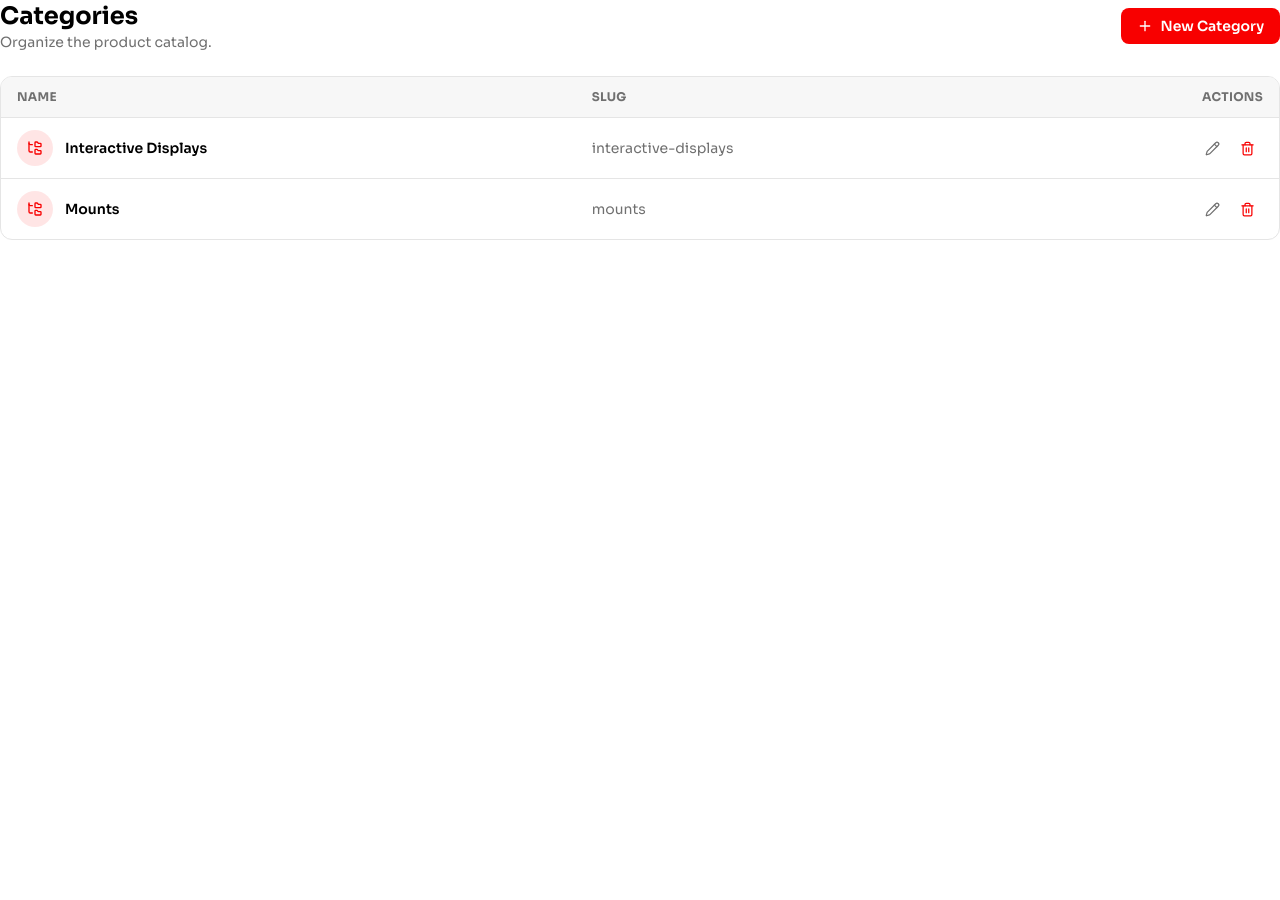
Test: Admin Categories › shows the backend FK protection message in the dialog when deletion fails with 422
The image size is (1280, 900).
Expected: the text "Mounts" is shown, [65,199,120,219]
Click the 2nd button titled "Delete" at (1248, 209), box [1232,194,1263,224]
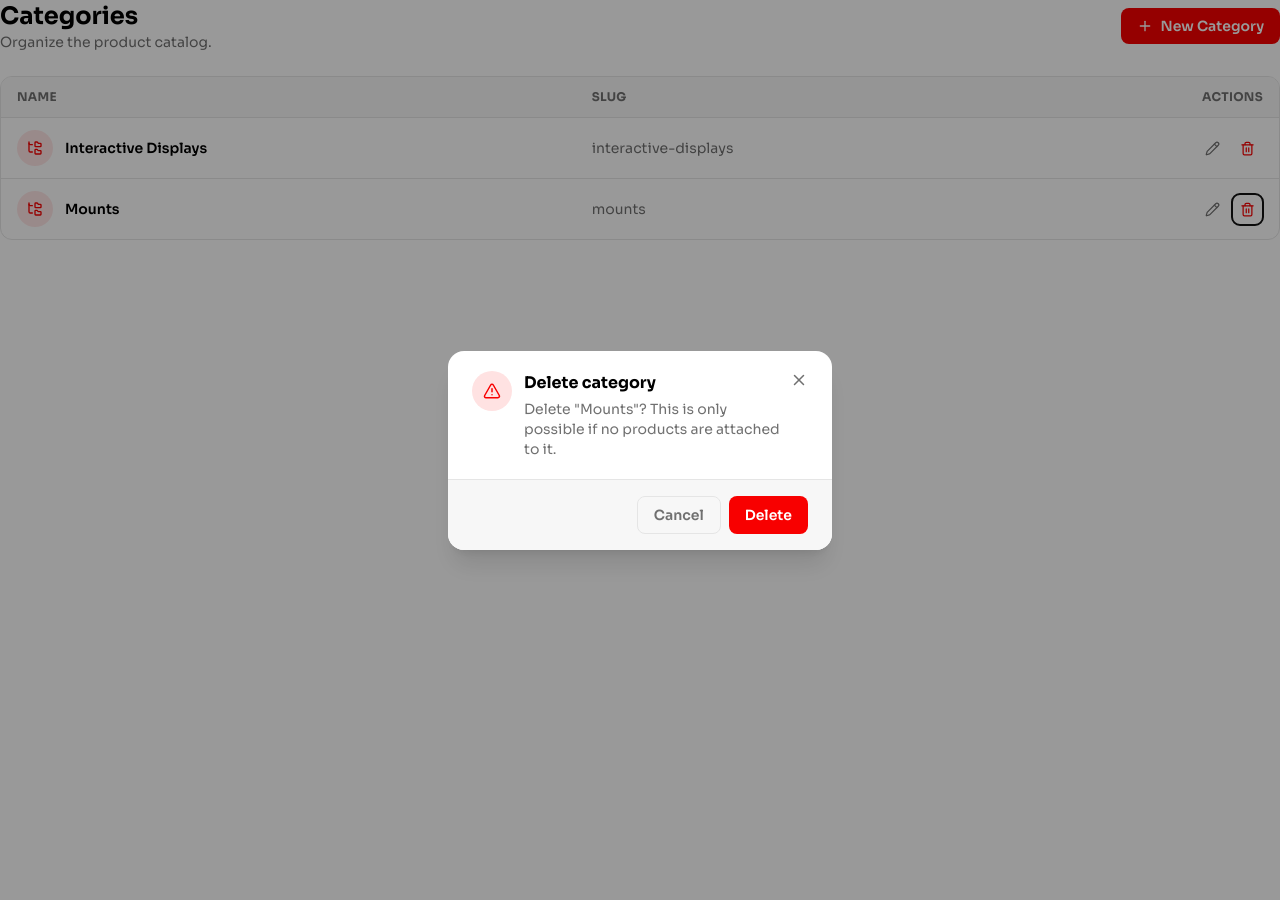
Click the button "Delete" at (768, 514), box [729,496,808,534]
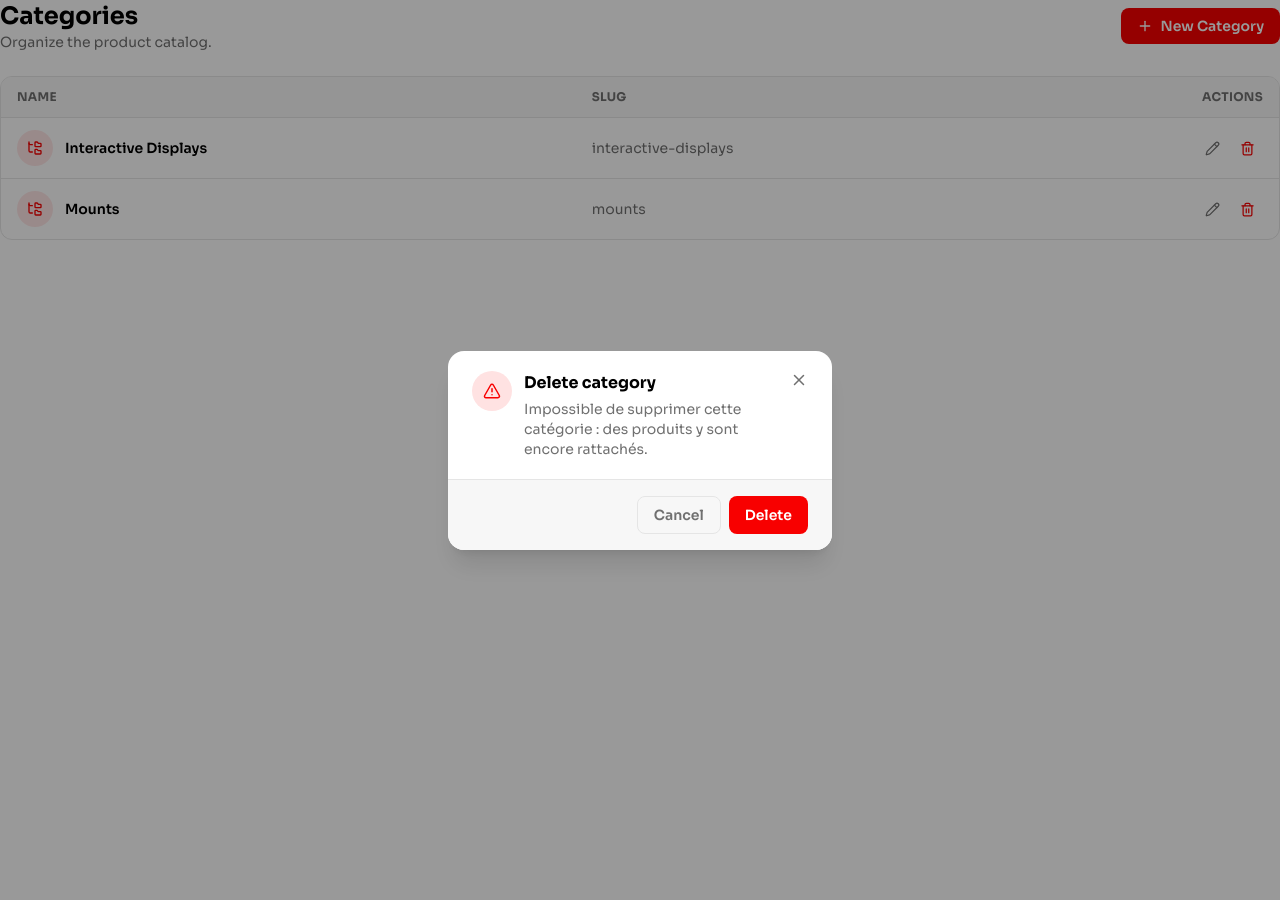
Expected: the text "Mounts" is shown, [65,199,120,219]
Expected: the text "des produits y sont encore rattachés" is shown, [524,400,741,458]
